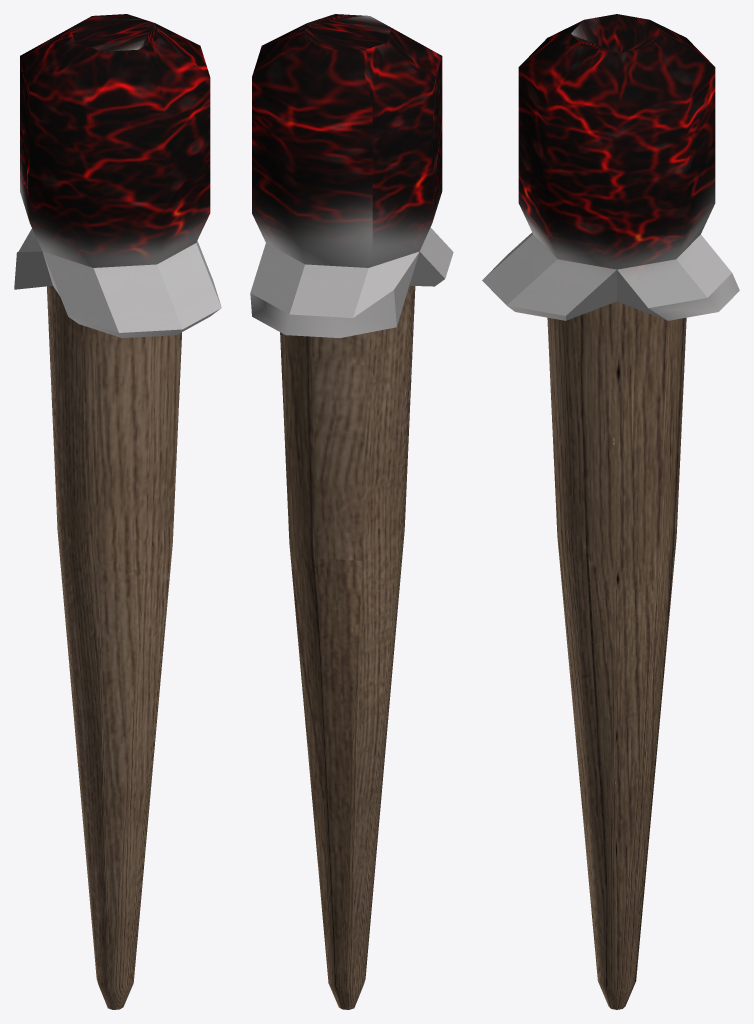
Rendered from Tourch.FBX.
3 views of the same model, side by side, from view 1: azimuth 30°, elevation 25°; view 2: azimuth 150°, elevation 25°; view 3: azimuth 270°, elevation 25° (orthographic).
Parts seen in each view (by area): view 1: Cylinder01; view 2: Cylinder01; view 3: Cylinder01.
Boxes of the visible parts, x1=… form: Cylinder01: x1=14, y1=14, x2=221, y2=1009; Cylinder01: x1=250, y1=14, x2=453, y2=1009; Cylinder01: x1=482, y1=14, x2=739, y2=1009.
Bounding box in the file's own units: 2.13 × 11.6 × 2.79.
2 materials, 2 textured.
